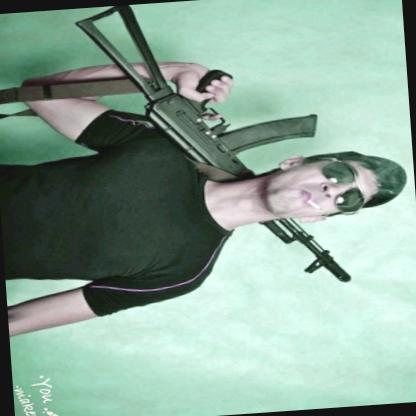rifle: (69, 0, 359, 299)
